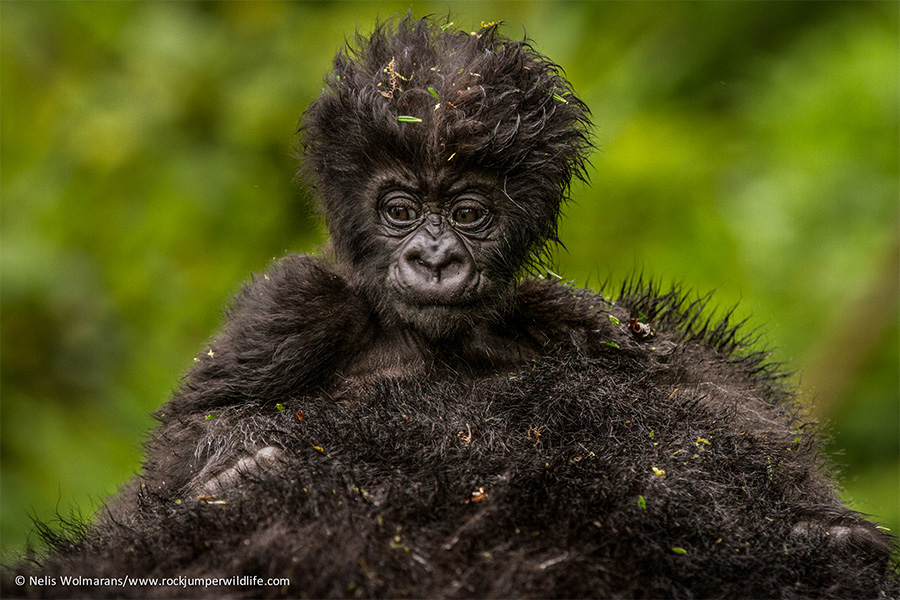Goriila: (214, 23, 765, 588)
